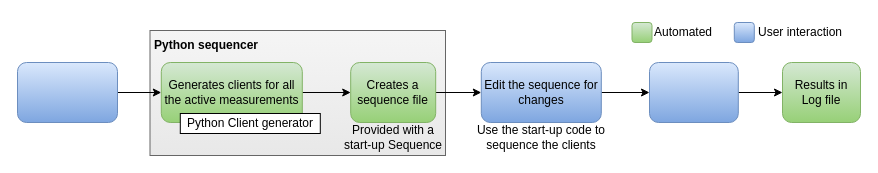
Image size: 878x173. Some labels were removed from this diagram. The shapes that lost their labels are listed below. From the top down, each one's centre as x and y in pixels, then its label:
the point at 67,92: Create sequence project
the point at 693,92: Run the sequence file
